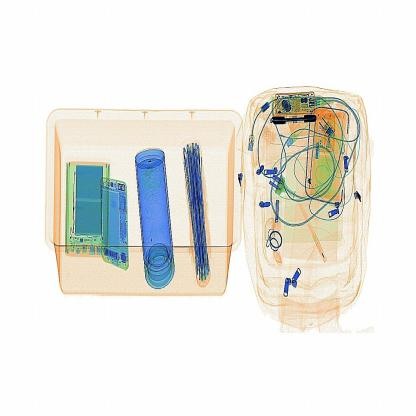knife: (264, 110, 322, 132)
